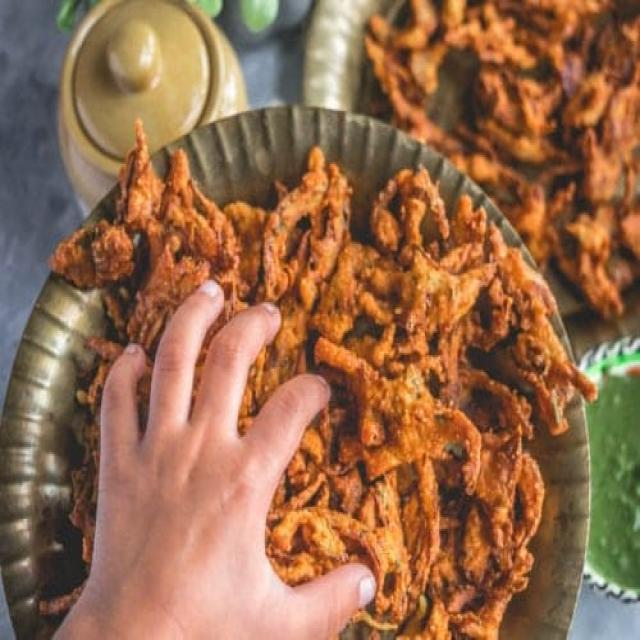BAJI: (52, 123, 589, 638)
